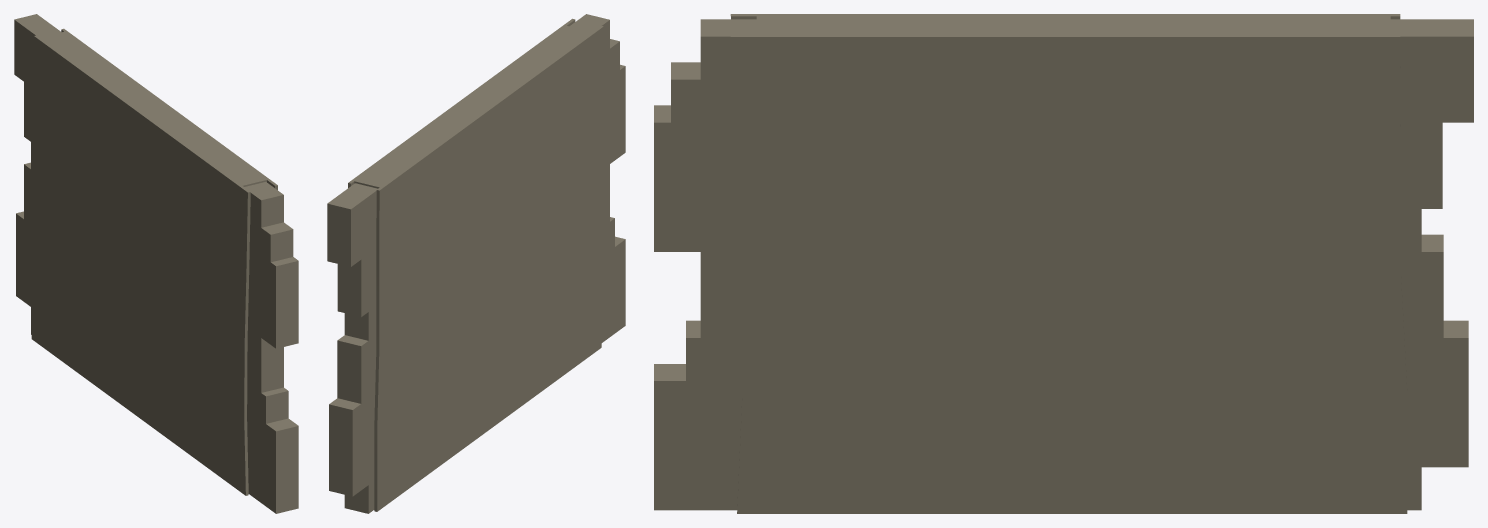
File: walls4_LP.fbx
The picture shows the model from 3 angles, left to right: view 1: azimuth 30°, elevation 25°; view 2: azimuth 150°, elevation 25°; view 3: azimuth 270°, elevation 25°; orthographic projection. The views are drawn at different scales.
Parts seen in each view (by area): view 1: wall11_LP, wall12_LP, wall10_LP; view 2: wall11_LP, wall10_LP, wall12_LP; view 3: wall11_LP, wall12_LP, wall10_LP.
Part boxes in pixels (left/top/right/bottom): wall11_LP: left=31, top=28, right=277, bottom=495; wall12_LP: left=244, top=182, right=298, bottom=513; wall10_LP: left=14, top=14, right=61, bottom=334; wall11_LP: left=348, top=18, right=603, bottom=511; wall10_LP: left=327, top=183, right=377, bottom=513; wall12_LP: left=569, top=14, right=625, bottom=342; wall11_LP: left=730, top=14, right=1407, bottom=513; wall12_LP: left=654, top=19, right=756, bottom=510; wall10_LP: left=1390, top=19, right=1473, bottom=510.
Bounding box in the file's own units: 43.28 × 420 × 654.
